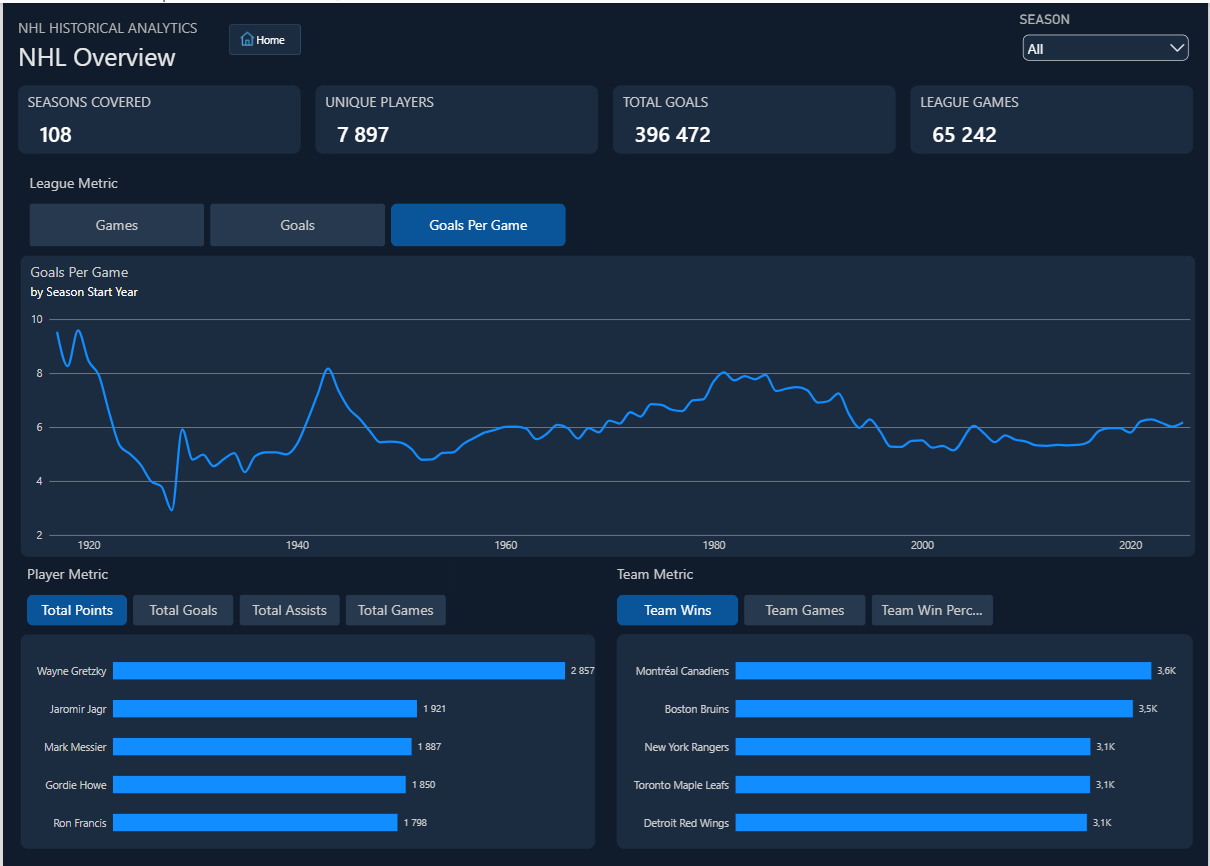

The page's visual inventory and layout, read from the dashboard file:
{"tool":"powerbi","page":{"name":"NHL Overview","canvas":[1600,1150],"ordinal":1},"visuals":[{"type":"textbox","title":"NHL HISTORICAL ANALYTICS","box":[19.6,19.6,298.6,65.8],"z":0},{"type":"cardVisual","title":"SEASONS COVERED","fields":{"Data":["Count(DimSeason.season)"]},"box":[20,110,375,90],"z":1000},{"type":"cardVisual","title":"UNIQUE PLAYERS","fields":{"Data":["FactPlayerStats.Active Players"]},"box":[415,110,375,90],"z":2000},{"type":"cardVisual","title":"TOTAL GOALS","fields":{"Data":["FactPlayerStats.Total Goals"]},"box":[810,110,375,90],"z":3000},{"type":"cardVisual","title":"LEAGUE GAMES","fields":{"Data":["FactTeamStats.League Games"]},"box":[1205,110,375,90],"z":4000},{"type":"slicer","fields":{"Values":["DimSeason.season"]},"box":[1350,35,230,50],"z":5000},{"type":"textbox","title":"SEASON","box":[1349.5,11.6,91.3,16.6],"z":6000},{"type":"lineChart","fields":{"Category":["DimSeason.Season Start Year"],"Y":["FactTeamStats.League Games"]},"box":[23.1,335.9,1560,400],"z":7000},{"type":"clusteredBarChart","fields":{"Category":["DimPlayer.Player Display Name"],"Y":["FactPlayerStats.Total Points"]},"box":[23.3,838.3,763.3,285],"z":8000},{"type":"clusteredBarChart","fields":{"Category":["DimTeam.team_name"],"Y":["FactTeamStats.Selected Team Metric Value"]},"box":[815,838.3,765,285],"z":9000},{"type":"advancedSlicerVisual","fields":{"Values":["League Metric.League Metric"]},"box":[23.3,216.7,726.7,106.7],"z":9001},{"type":"advancedSlicerVisual","fields":{"Values":["Team Metric.Team Metric"]},"box":[803.3,736.7,513.3,90],"z":9002},{"type":"advancedSlicerVisual","fields":{"Values":["Player Metric 2.Player Metric"]},"box":[20,736.7,571.7,90],"z":9003},{"type":"actionButton","box":[299.9,28.2,95.3,40.6],"z":9004}]}

Visuals, with their boxes in screenshot pixels (x1, y1, x2, y2), scaled from the page's 1600x1150 canvas onto the 1210x866 screenshot:
"NHL HISTORICAL ANALYTICS" textbox: select_region(15, 15, 241, 64)
"SEASONS COVERED" cardVisual: select_region(15, 83, 299, 151)
"UNIQUE PLAYERS" cardVisual: select_region(314, 83, 597, 151)
"TOTAL GOALS" cardVisual: select_region(613, 83, 896, 151)
"LEAGUE GAMES" cardVisual: select_region(911, 83, 1195, 151)
slicer - DimSeason.season: select_region(1021, 26, 1195, 64)
"SEASON" textbox: select_region(1021, 9, 1090, 21)
lineChart - DimSeason.Season Start Year x FactTeamStats.League Games: select_region(17, 253, 1197, 554)
clusteredBarChart - DimPlayer.Player Display Name x FactPlayerStats.Total Points: select_region(18, 631, 595, 846)
clusteredBarChart - DimTeam.team_name x FactTeamStats.Selected Team Metric Value: select_region(616, 631, 1195, 846)
advancedSlicerVisual - League Metric.League Metric: select_region(18, 163, 567, 244)
advancedSlicerVisual - Team Metric.Team Metric: select_region(607, 555, 996, 623)
advancedSlicerVisual - Player Metric 2.Player Metric: select_region(15, 555, 447, 623)
actionButton: select_region(227, 21, 299, 52)
